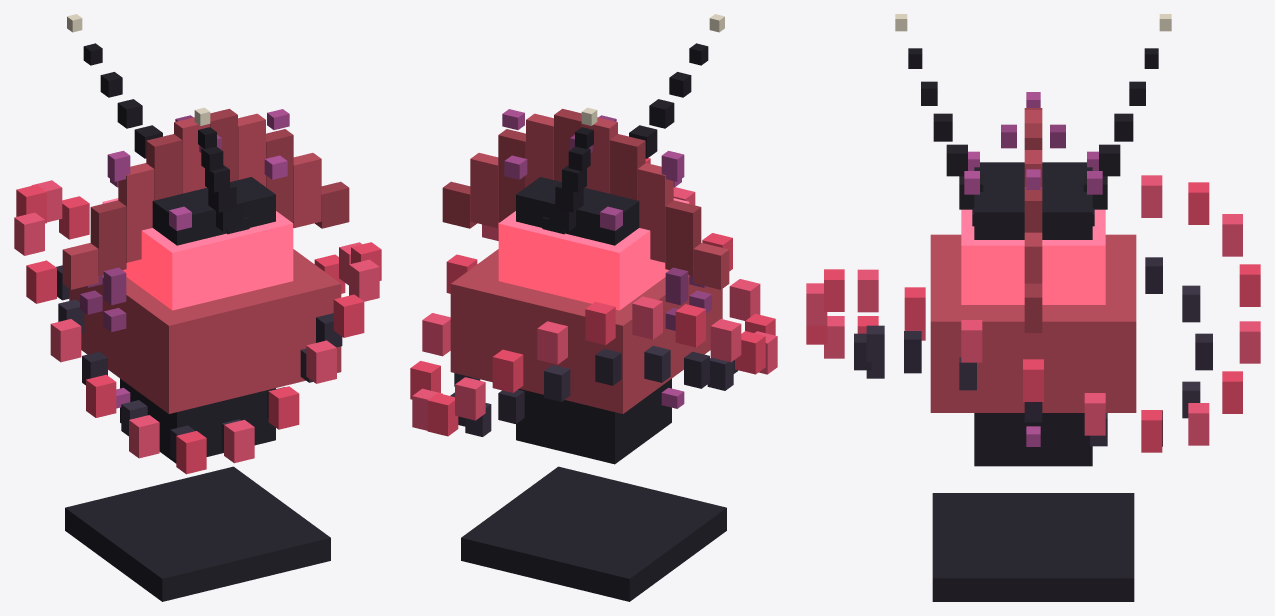
File: overload-destruction-elemental.glb
The picture shows the model from 3 angles, left to right: view 1: azimuth 30°, elevation 25°; view 2: azimuth 150°, elevation 25°; view 3: azimuth 270°, elevation 25°; orthographic projection. The views are drawn at different scales.
Parts seen in each view (by area): view 1: Armor, Base, Spikes, Shards, Core, Body, Horns, Cage, Scales, Trim; view 2: Base, Armor, Spikes, Shards, Body, Core, Cage, Horns, Scales, Trim; view 3: Armor, Base, Shards, Body, Core, Cage, Horns, Spikes, Scales, Trim.
Part boxes in pixels (left/top/right/bottom): Armor: left=69, top=249, right=341, bottom=413; Base: left=65, top=466, right=330, bottom=601; Spikes: left=62, top=108, right=349, bottom=289; Shards: left=14, top=180, right=381, bottom=474; Core: left=102, top=198, right=293, bottom=310; Body: left=120, top=177, right=275, bottom=463; Horns: left=67, top=14, right=249, bottom=234; Cage: left=56, top=265, right=342, bottom=460; Scales: left=80, top=115, right=287, bottom=332; Trim: left=107, top=109, right=289, bottom=408; Base: left=461, top=466, right=726, bottom=601; Armor: left=450, top=249, right=722, bottom=413; Spikes: left=442, top=108, right=729, bottom=289; Shards: left=410, top=158, right=777, bottom=436; Body: left=516, top=177, right=671, bottom=464; Core: left=498, top=198, right=689, bottom=310; Cage: left=450, top=345, right=738, bottom=436; Horns: left=542, top=14, right=724, bottom=234; Scales: left=504, top=115, right=711, bottom=330; Trim: left=502, top=109, right=684, bottom=408; Armor: left=930, top=234, right=1136, bottom=412; Base: left=932, top=493, right=1134, bottom=601; Shards: left=806, top=175, right=1260, bottom=452; Body: left=974, top=162, right=1092, bottom=466; Core: left=961, top=209, right=1105, bottom=304; Cage: left=854, top=257, right=1212, bottom=446; Horns: left=895, top=14, right=1171, bottom=226; Spikes: left=1024, top=108, right=1042, bottom=332; Scales: left=964, top=124, right=1102, bottom=194; Trim: left=1026, top=92, right=1040, bottom=446.
Bounding box in the file's own units: 3.95 × 6.47 × 5.19.
